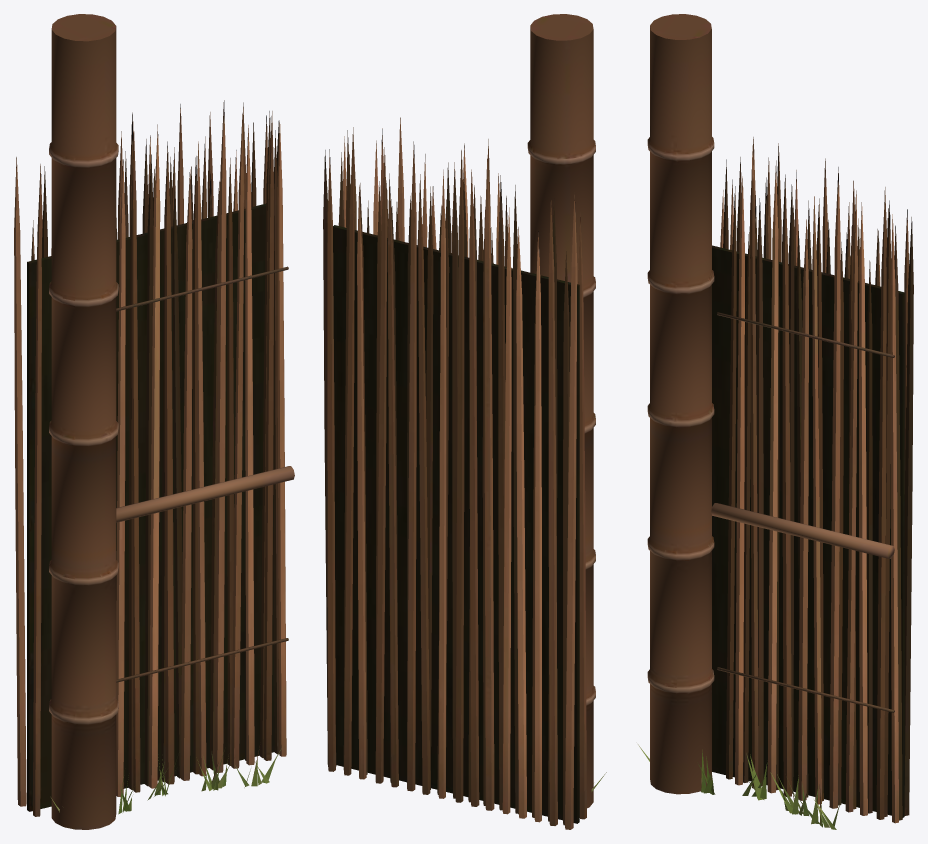
The model's file is fence_reed_end_w_tall_hd.glb.
3 views of the same model, side by side, from view 1: azimuth 30°, elevation 25°; view 2: azimuth 150°, elevation 25°; view 3: azimuth 330°, elevation 25° (orthographic). The views are drawn at different scales.
Parts seen in each view (by area): view 1: fence_reed_end_w_tall; view 2: fence_reed_end_w_tall; view 3: fence_reed_end_w_tall.
Boxes of the visible parts, x1,y1,x2,y2 form: fence_reed_end_w_tall: (14, 14, 294, 829); fence_reed_end_w_tall: (323, 14, 606, 829); fence_reed_end_w_tall: (638, 14, 913, 829).
Bounding box in the file's own units: 0.6505 × 1.87 × 0.2027.
Materials: 1 (1 with a texture image).
